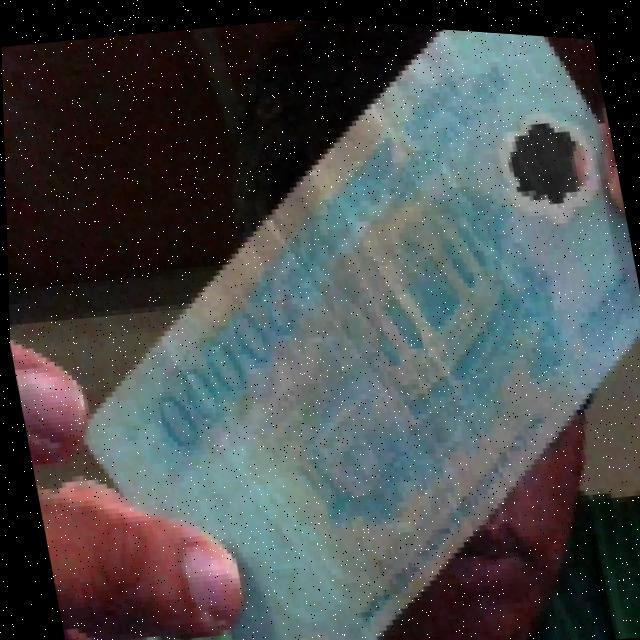20 000 VND: (5, 0, 640, 640)
